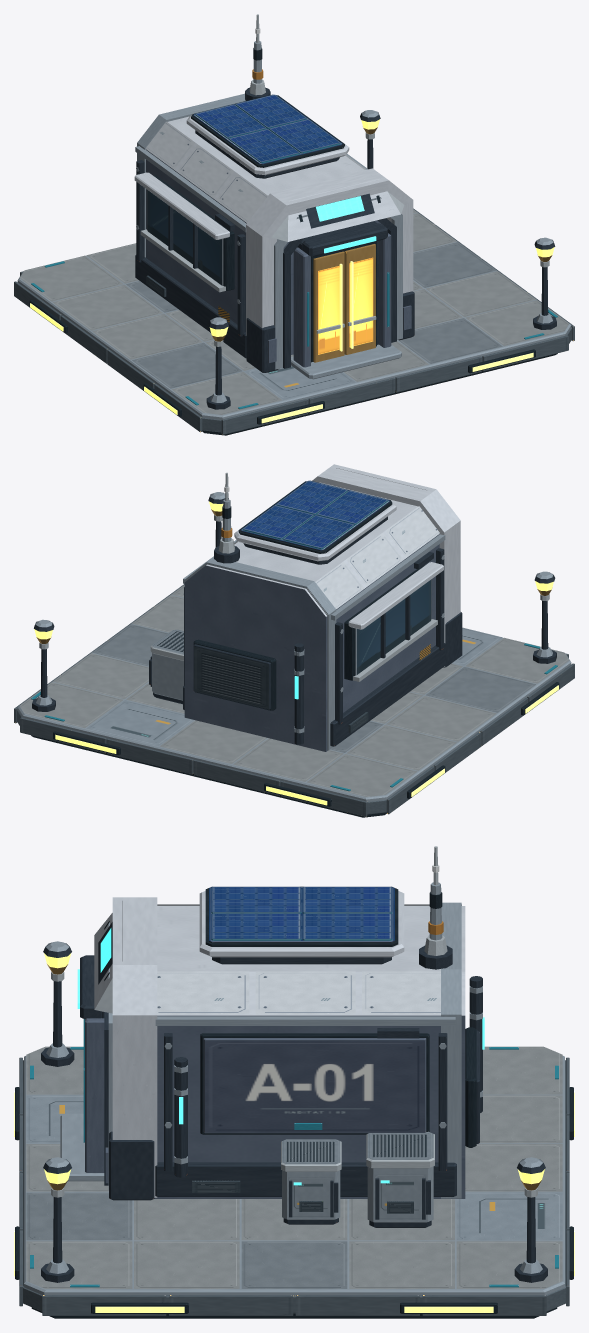
The model's file is N1_RefugioBasico.fbx.
The picture shows the model from 3 angles, top to bottom: view 1: azimuth 30°, elevation 25°; view 2: azimuth 150°, elevation 25°; view 3: azimuth 270°, elevation 25°; orthographic projection. The views are drawn at different scales.
Visible parts, largest first — view 1: N1_RefugioBasico; view 2: N1_RefugioBasico; view 3: N1_RefugioBasico.
Part boxes in pixels (x1=…): N1_RefugioBasico: x1=14, y1=14, x2=574, y2=435; N1_RefugioBasico: x1=14, y1=464, x2=574, y2=817; N1_RefugioBasico: x1=14, y1=846, x2=574, y2=1318.
Bounding box in the file's own units: 6.43 × 4.32 × 6.03.
